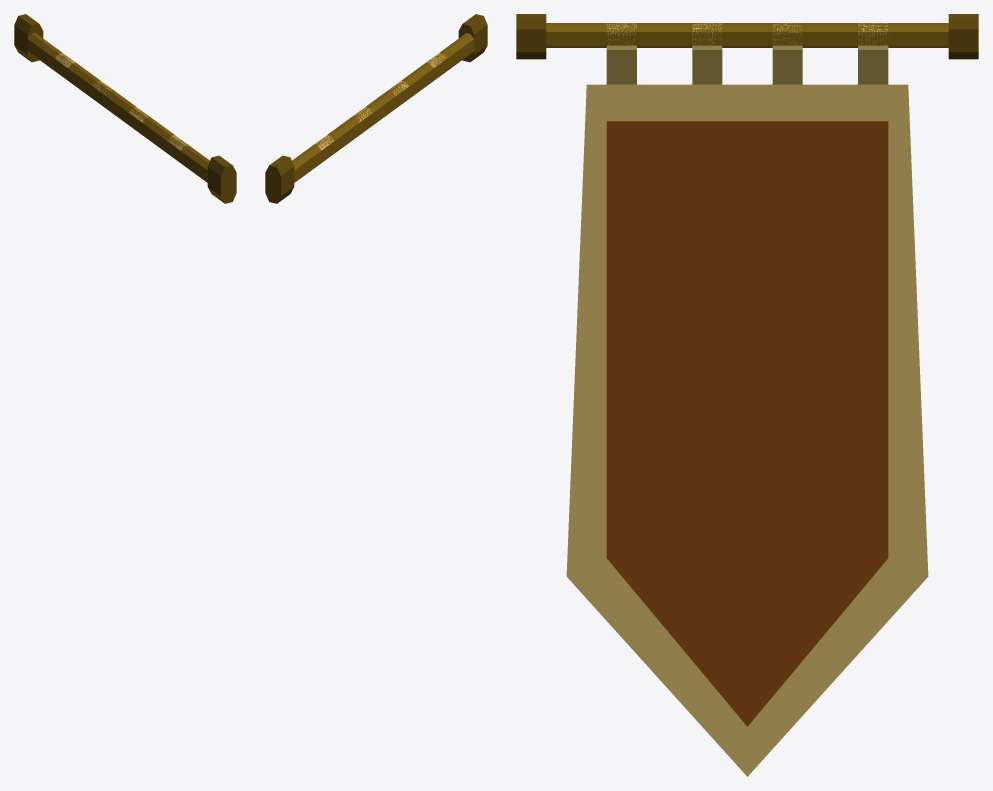
The picture shows the model from 3 angles, left to right: view 1: azimuth 30°, elevation 25°; view 2: azimuth 150°, elevation 25°; view 3: azimuth 270°, elevation 25°; orthographic projection. The views are drawn at different scales.
Bounding box in the file's own units: 4 × 168 × 92.
1 material, 1 textured.
